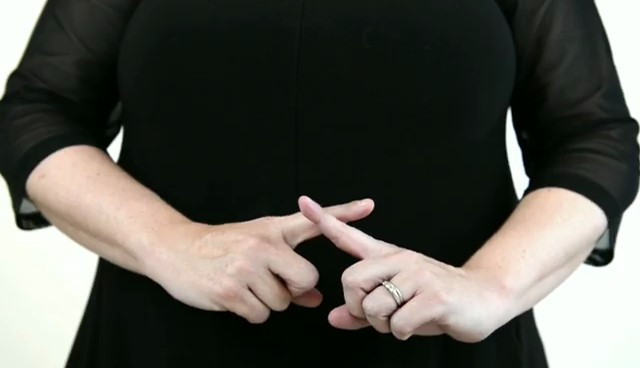X: (172, 177, 486, 353)
